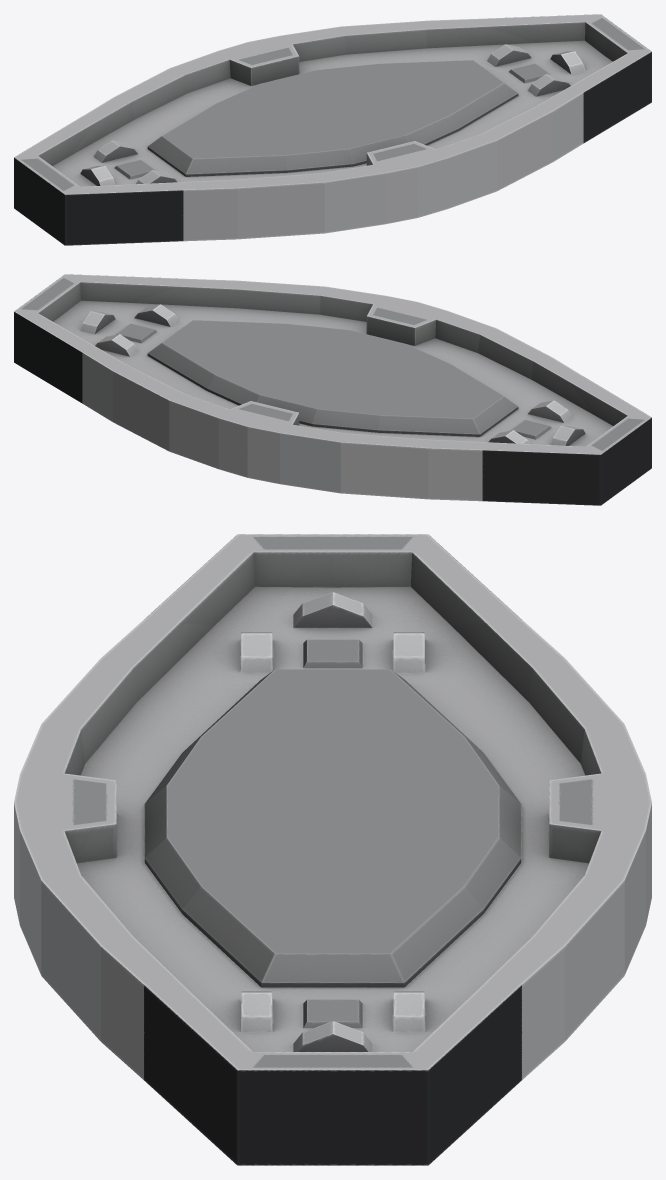
3 renders of one model, top to bottom at view 1: azimuth 30°, elevation 25°; view 2: azimuth 150°, elevation 25°; view 3: azimuth 270°, elevation 25°, orthographic. The views are drawn at different scales.
Parts seen in each view (by area): view 1: MK2DroneCore_mesh; view 2: MK2DroneCore_mesh; view 3: MK2DroneCore_mesh.
Part boxes in pixels (box(x1,y1,x2,y2)): MK2DroneCore_mesh: box(14, 14, 651, 245); MK2DroneCore_mesh: box(14, 274, 651, 505); MK2DroneCore_mesh: box(14, 534, 651, 1165).
Size of the model in its own units: 10.74 by 0.8928 by 5.41.
1 material, 1 textured.
